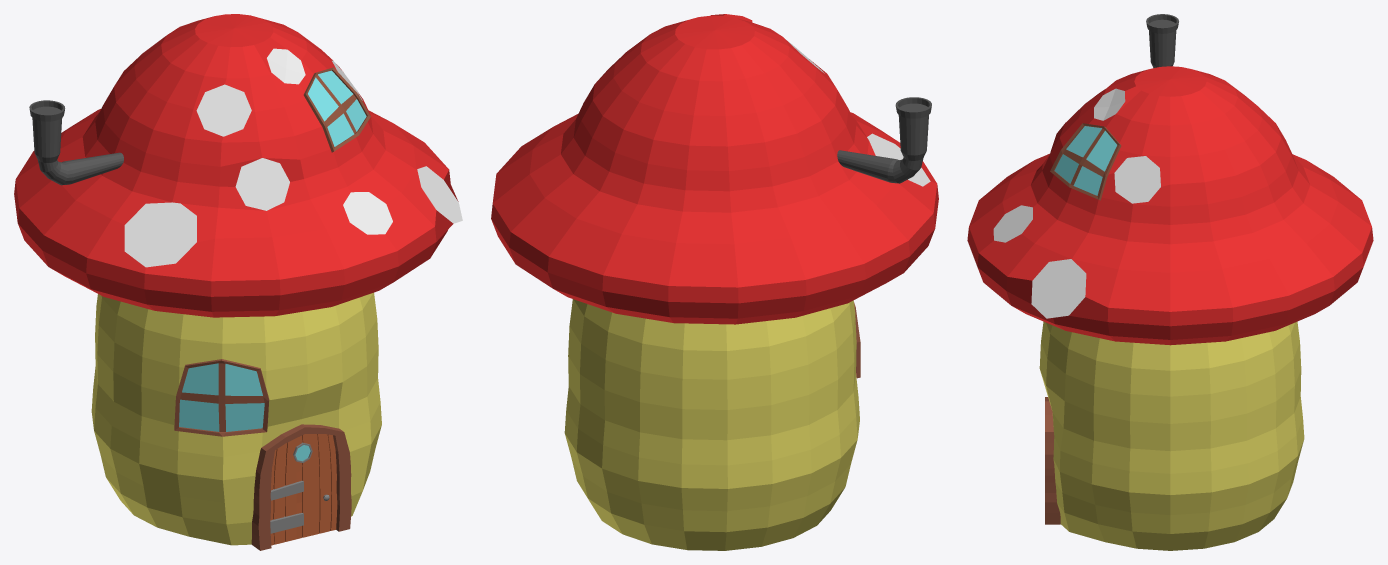
File: CasaHongo.glb
The picture shows the model from 3 angles, left to right: view 1: azimuth 30°, elevation 25°; view 2: azimuth 150°, elevation 25°; view 3: azimuth 270°, elevation 25°; orthographic projection. The views are drawn at different scales.
Parts seen in each view (by area): view 1: Casa hongo.002; view 2: Casa hongo.002; view 3: Casa hongo.002.
Boxes of the visible parts, bbox=[...] form: Casa hongo.002: bbox=[14, 14, 462, 550]; Casa hongo.002: bbox=[491, 14, 938, 550]; Casa hongo.002: bbox=[967, 14, 1373, 550].
Size of the model in its own units: 0.8584 by 0.9518 by 0.8257.
